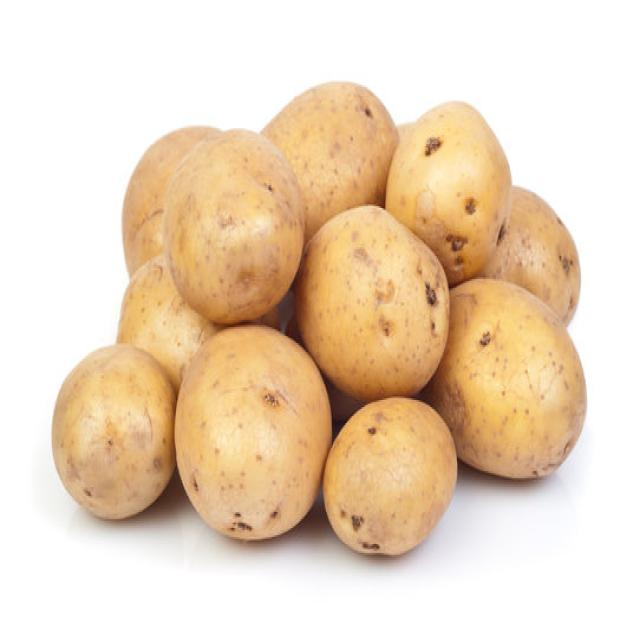Garlic: (115, 251, 217, 391)
Potato: (174, 322, 332, 540), (426, 276, 587, 480), (293, 202, 450, 402), (162, 128, 304, 324), (384, 98, 511, 284), (259, 78, 398, 244), (51, 341, 175, 519), (322, 394, 457, 556), (120, 123, 222, 277), (479, 183, 580, 327)
